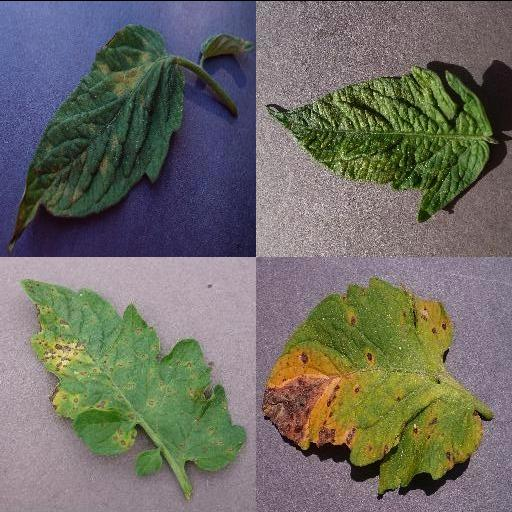Leaf Mold: (8, 22, 186, 249)
Septoria: (261, 274, 481, 493), (21, 281, 248, 471)
Spider Mites: (267, 65, 491, 223)
